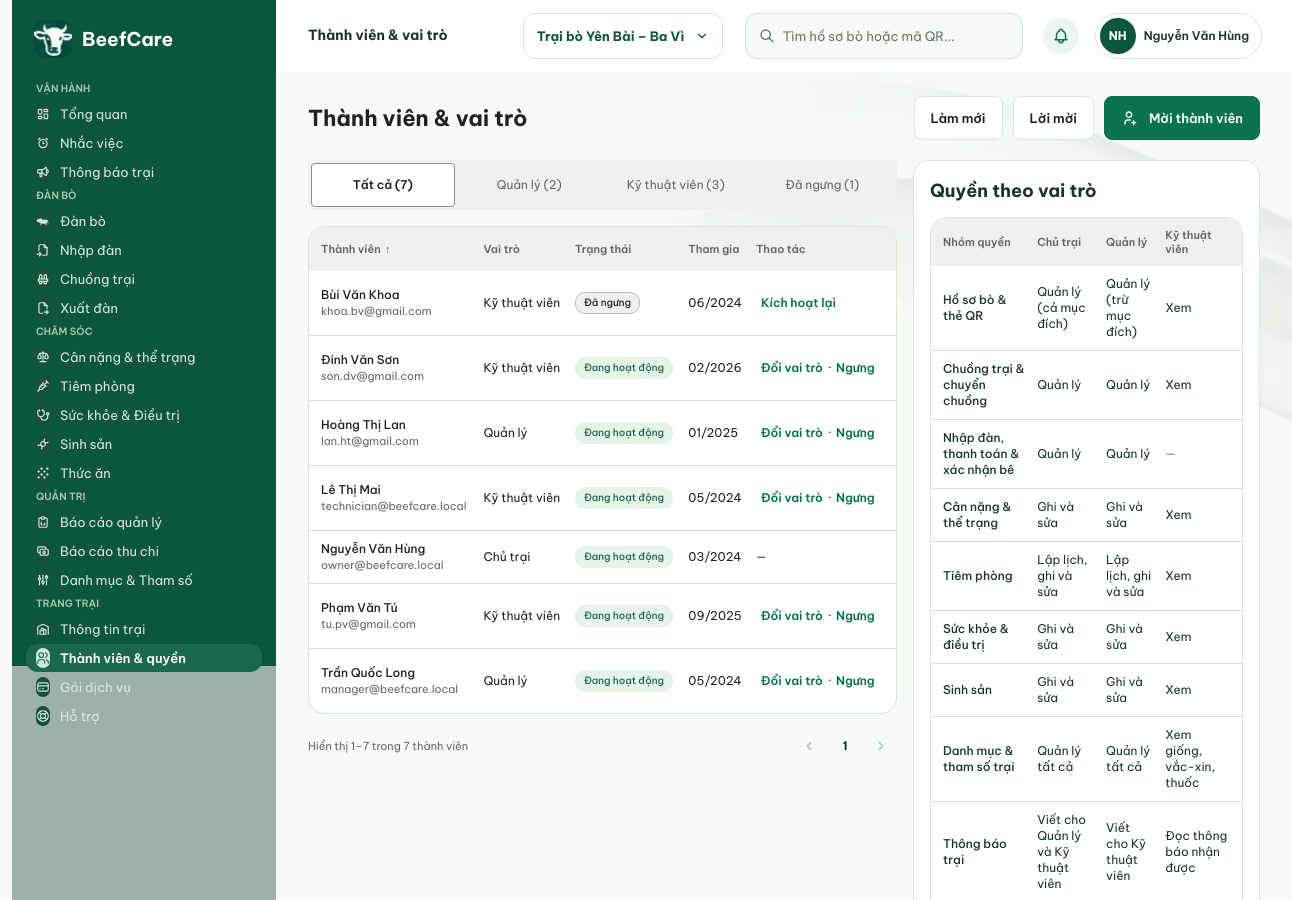
Test: Members and Roles › filters by role and status and offers actions to the Owner
The width and height of the screenshot is (1292, 900).
Expected: the button "Tất cả (7)" is shown, left=311, top=163, right=454, bottom=207
Expected: the button "Quản lý (2)" is shown, left=458, top=163, right=601, bottom=207
Click the button "Đã ngưng (1)" at [822, 185], box left=750, top=163, right=894, bottom=207
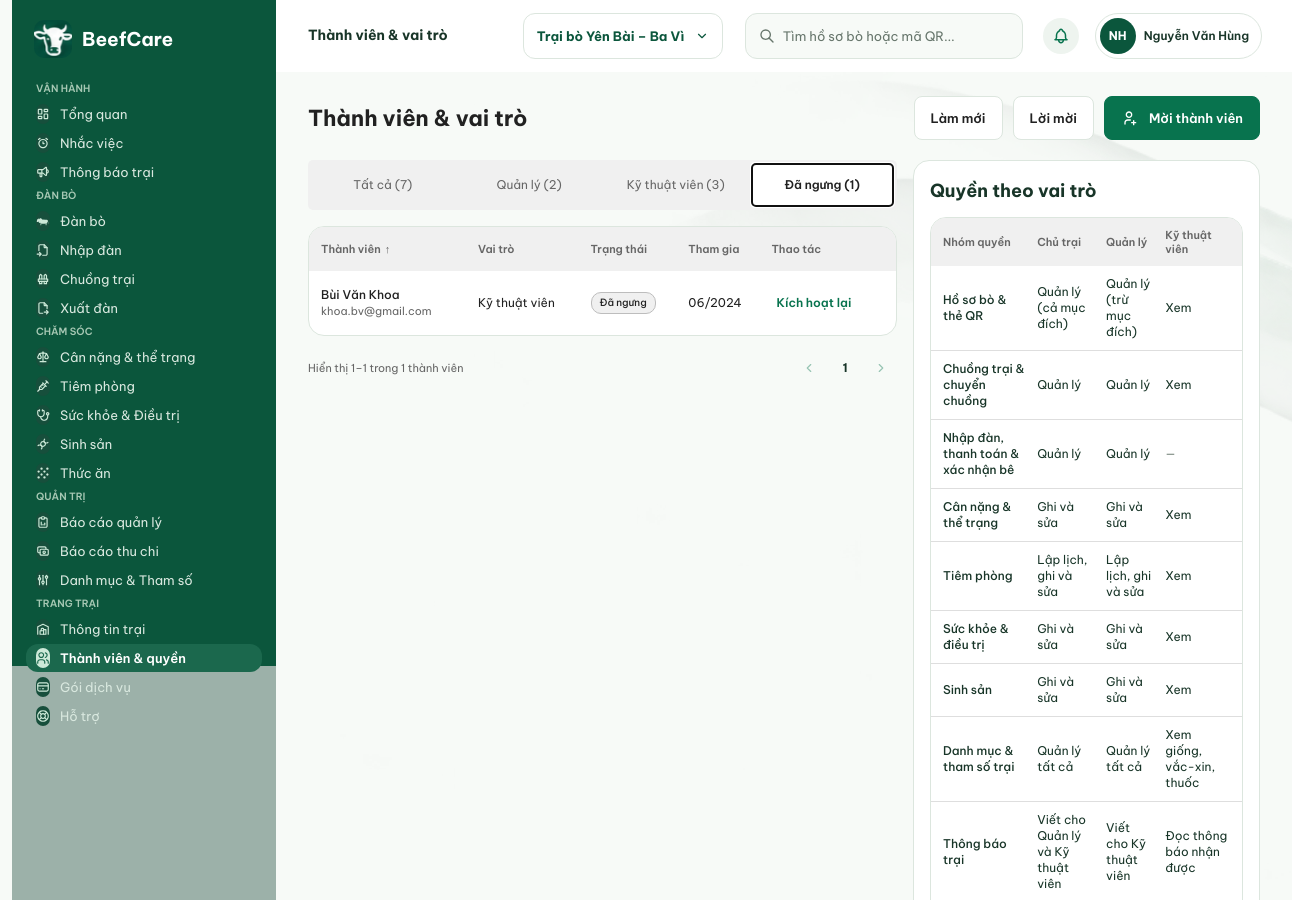
Expected: the text "Bùi Văn Khoa" is shown, left=321, top=287, right=400, bottom=302
Now the text "Phạm Văn Tú" is gone
